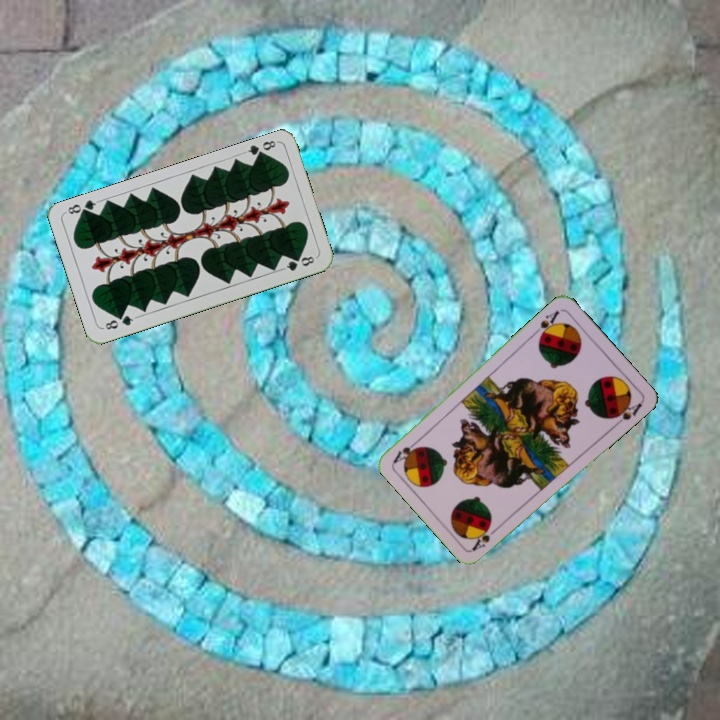G8: (240, 136, 280, 161), (101, 311, 139, 332)
SA: (529, 306, 562, 342), (468, 521, 502, 553)
